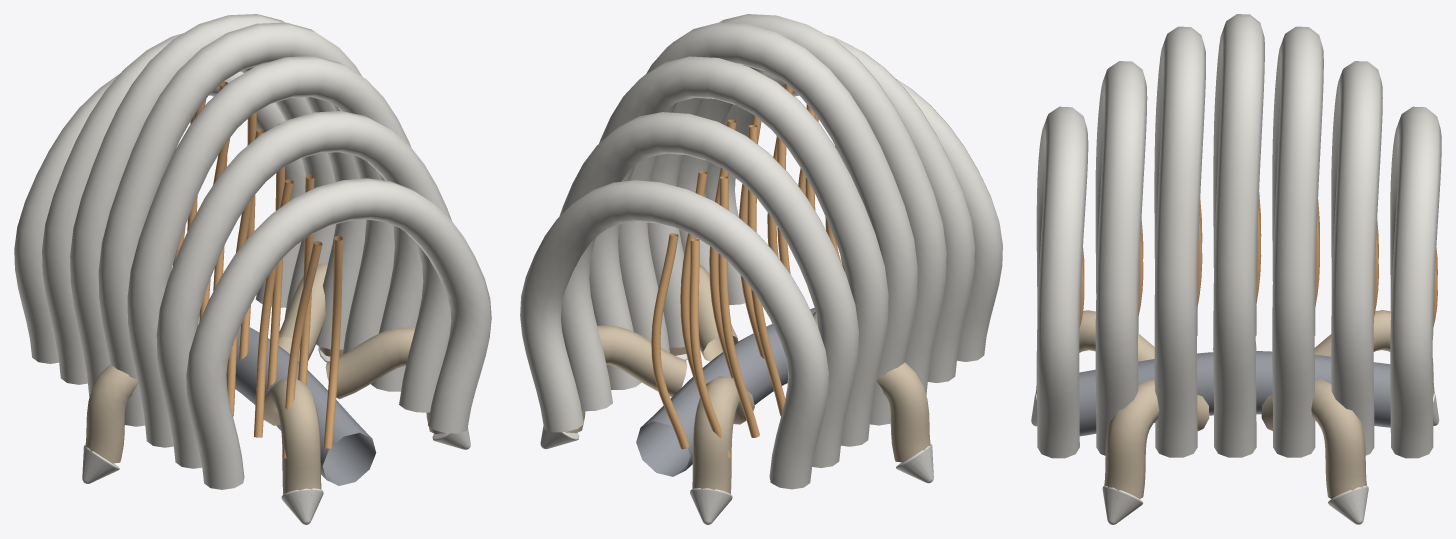
The model's file is bio_blind_harp_04_near.glb.
The picture shows the model from 3 angles, left to right: view 1: azimuth 30°, elevation 25°; view 2: azimuth 150°, elevation 25°; view 3: azimuth 270°, elevation 25°; orthographic projection. The views are drawn at different scales.
Visible parts, largest first — view 1: Open rib arch, Open rib arch.001, Open rib arch.002, Open rib arch.003, Open rib arch.004, Open rib arch.005, Open rib arch.006, Low axial spine, Crooked support.003, Resonance filament, Crooked support.002, Crooked support.004 (+6 smaller); view 2: Open rib arch.006, Open rib arch.005, Open rib arch.004, Open rib arch.003, Open rib arch.002, Open rib arch.001, Open rib arch, Low axial spine, Crooked support.001, Resonance filament.012, Crooked support.002, Resonance filament.010 (+7 smaller); view 3: Open rib arch.003, Open rib arch.002, Open rib arch.004, Open rib arch.001, Open rib arch.005, Open rib arch.006, Open rib arch, Low axial spine, Crooked support.004, Crooked support, Crooked support.001, Crooked support.003 (+2 smaller).
Boxes of the visible parts, box(x1,y1,x2,y2) form: Open rib arch: box(186, 178, 491, 489); Open rib arch.001: box(156, 111, 451, 468); Open rib arch.002: box(127, 56, 423, 447); Open rib arch.003: box(98, 22, 394, 426); Open rib arch.004: box(70, 14, 366, 397); Open rib arch.005: box(42, 33, 335, 384); Open rib arch.006: box(14, 71, 305, 363); Low axial spine: box(199, 312, 376, 485); Crooked support.003: box(263, 378, 321, 496); Resonance filament: box(282, 235, 342, 458); Crooked support.002: box(84, 364, 138, 463); Crooked support.004: box(325, 327, 445, 433); Open rib arch.006: box(520, 180, 828, 489); Open rib arch.005: box(559, 112, 858, 467); Open rib arch.004: box(589, 56, 888, 446); Open rib arch.003: box(618, 22, 917, 425); Open rib arch.002: box(647, 14, 946, 395); Open rib arch.001: box(676, 34, 974, 382); Open rib arch: box(705, 72, 1002, 361); Low axial spine: box(636, 307, 815, 476); Crooked support.001: box(692, 376, 754, 496); Resonance filament.012: box(651, 233, 730, 458); Crooked support.002: box(877, 362, 931, 462); Resonance filament.010: box(680, 171, 759, 437); Open rib arch.003: box(1213, 14, 1264, 457); Open rib arch.002: box(1154, 26, 1205, 457); Open rib arch.004: box(1272, 26, 1323, 457); Open rib arch.001: box(1095, 61, 1147, 455); Open rib arch.005: box(1331, 61, 1382, 455); Open rib arch.006: box(1390, 106, 1441, 458); Open rib arch: box(1036, 106, 1088, 458); Low axial spine: box(1079, 351, 1390, 436); Crooked support.004: box(1104, 379, 1209, 498); Crooked support: box(1261, 379, 1366, 498); Crooked support.001: box(1314, 310, 1434, 396); Crooked support.003: box(1035, 310, 1154, 394).
Bounding box in the file's own units: 1.83 × 2.2 × 1.94.
